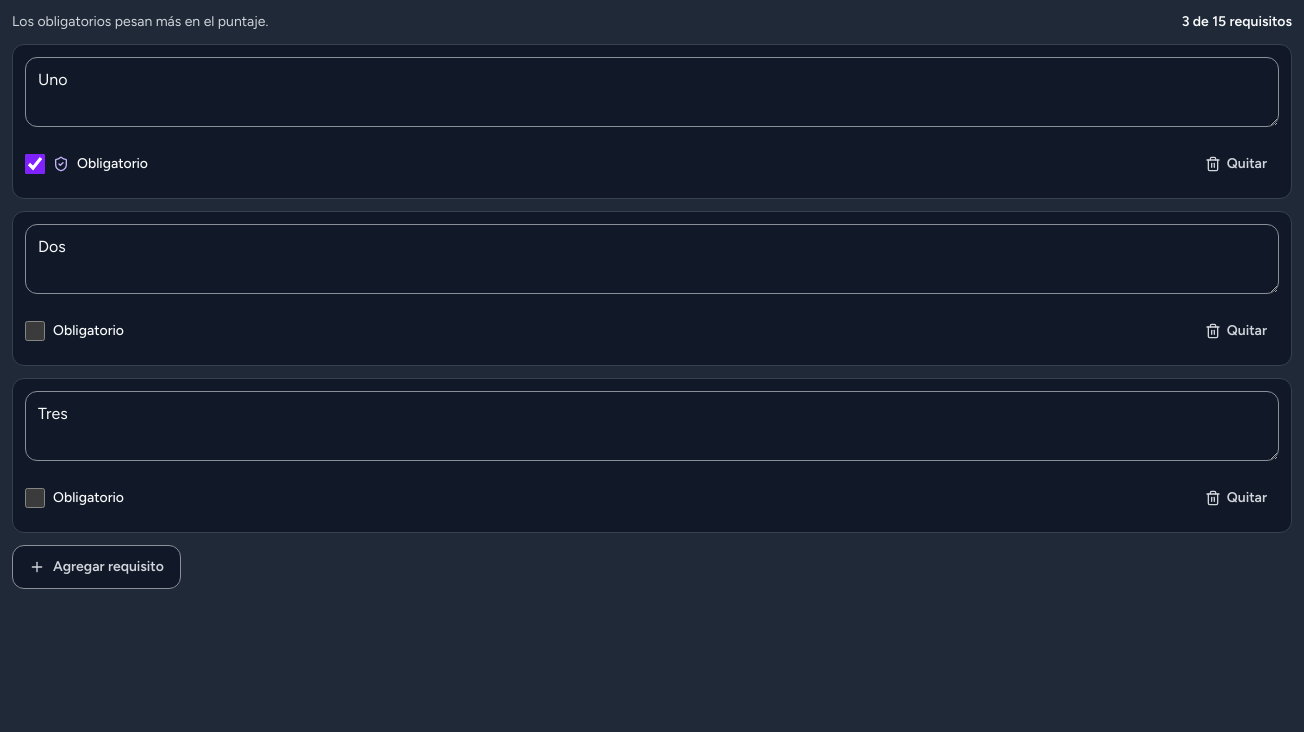
CVRequirementCards › "Deshacer" devuelve el foco a la tarjeta restaurada
The width and height of the screenshot is (1304, 732).
Click the button with aria-label "Quitar requisito 2": {"x": 1236, "y": 331} top-left (1193, 309), bottom-right (1279, 353)
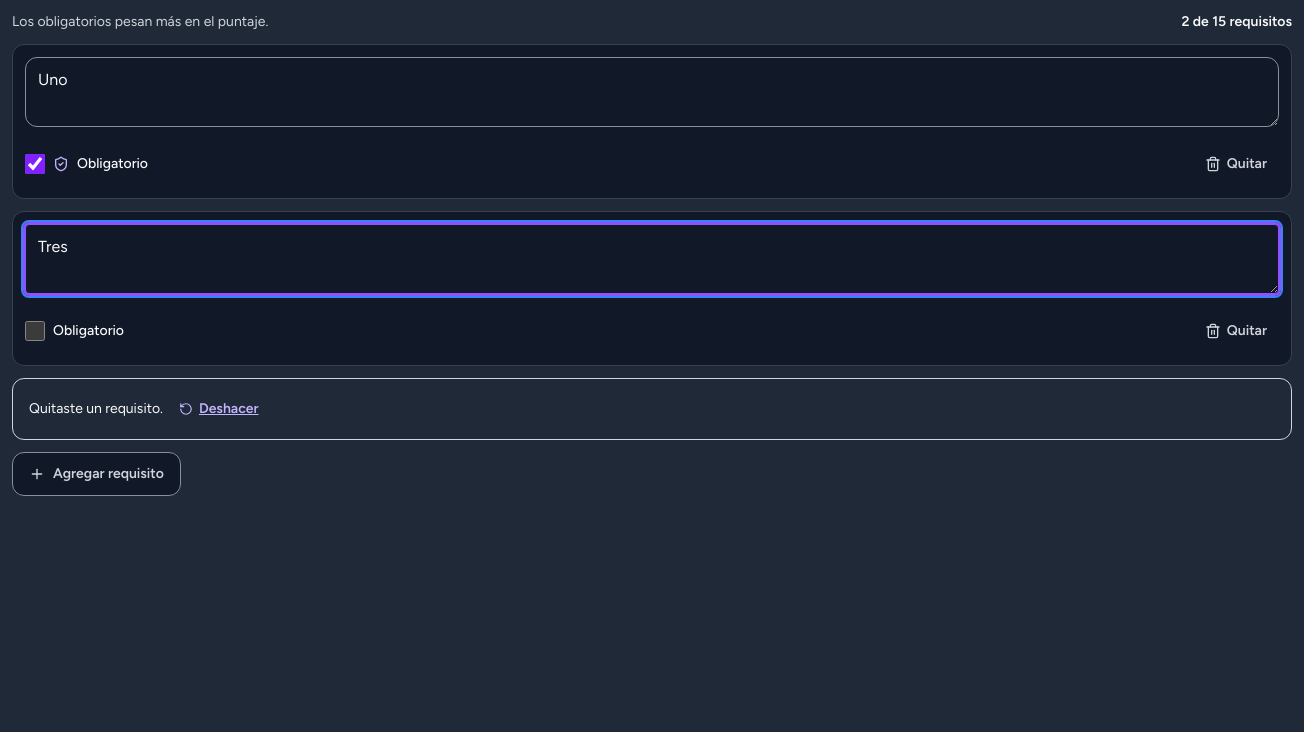
Click the button "Deshacer": {"x": 219, "y": 409} top-left (175, 387), bottom-right (262, 431)
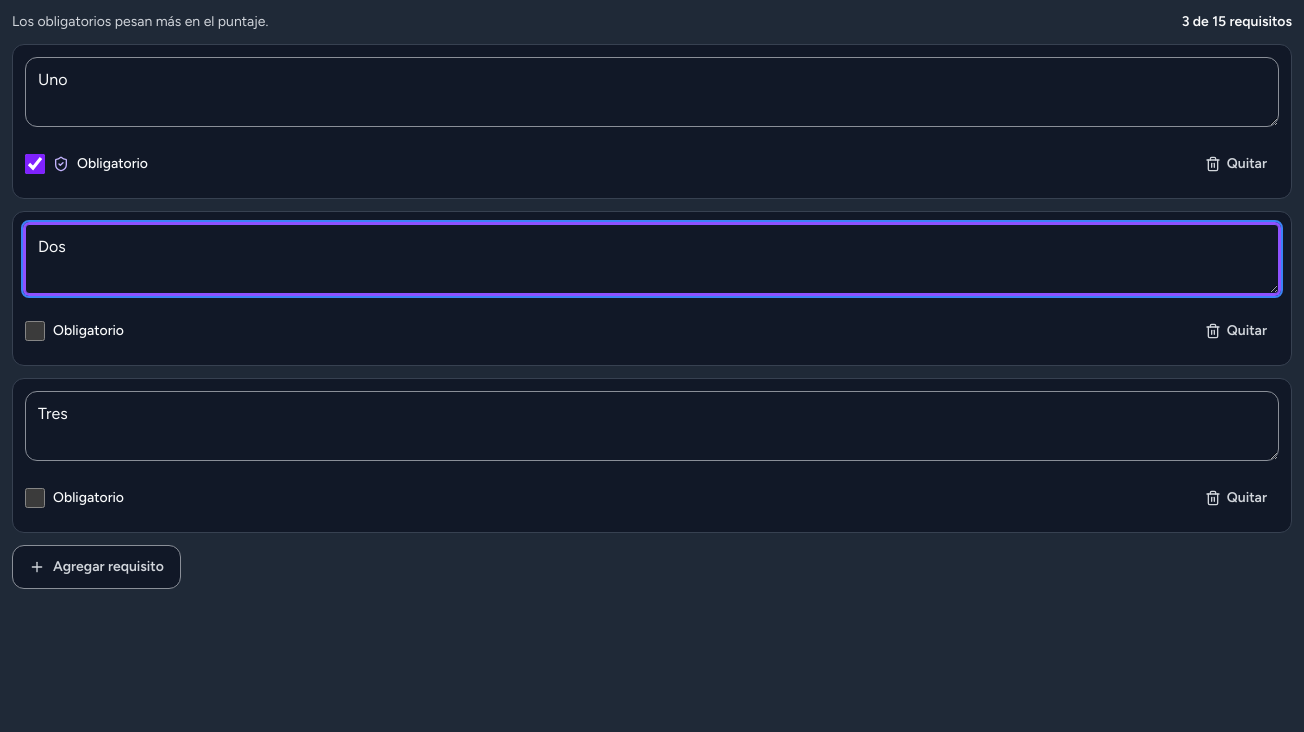
Expected: the number of text boxes is 3, top-left (25, 57), bottom-right (1279, 127); top-left (25, 224), bottom-right (1279, 294); top-left (25, 391), bottom-right (1279, 461)
Expected: the 2nd text box holds "Dos", top-left (25, 224), bottom-right (1279, 294)
